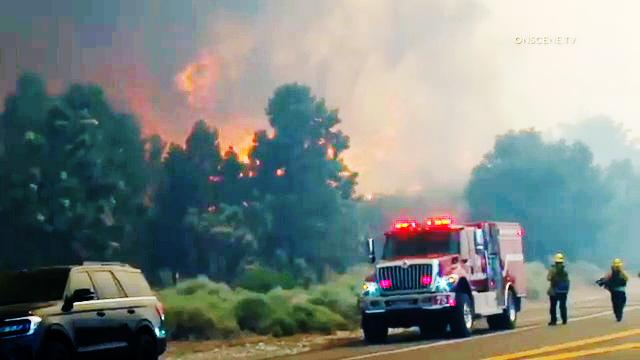smoke: (8, 3, 513, 81)
